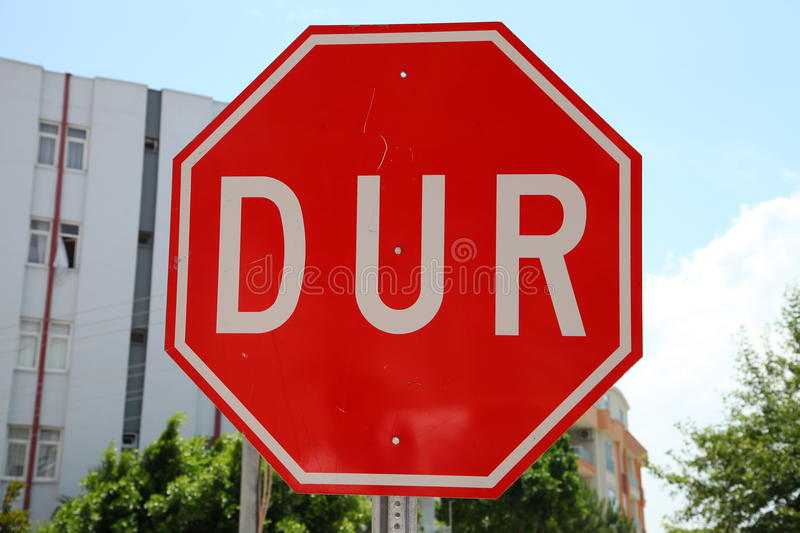dur: (154, 23, 639, 503)
